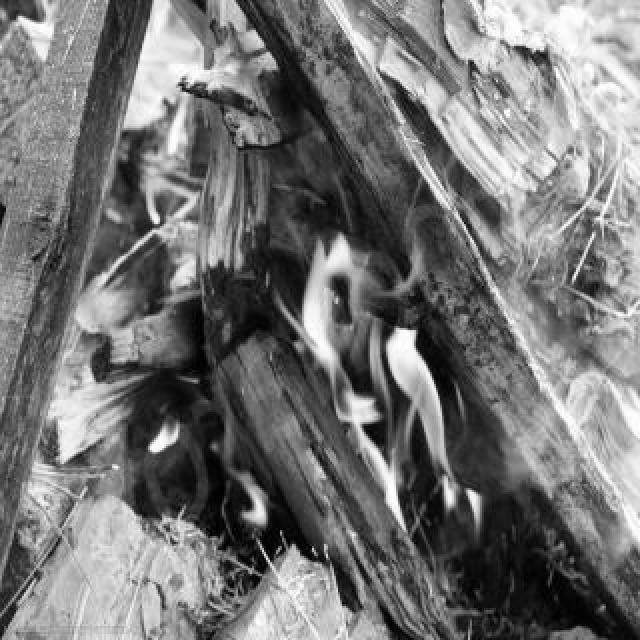Fire: (168, 180, 490, 570)
